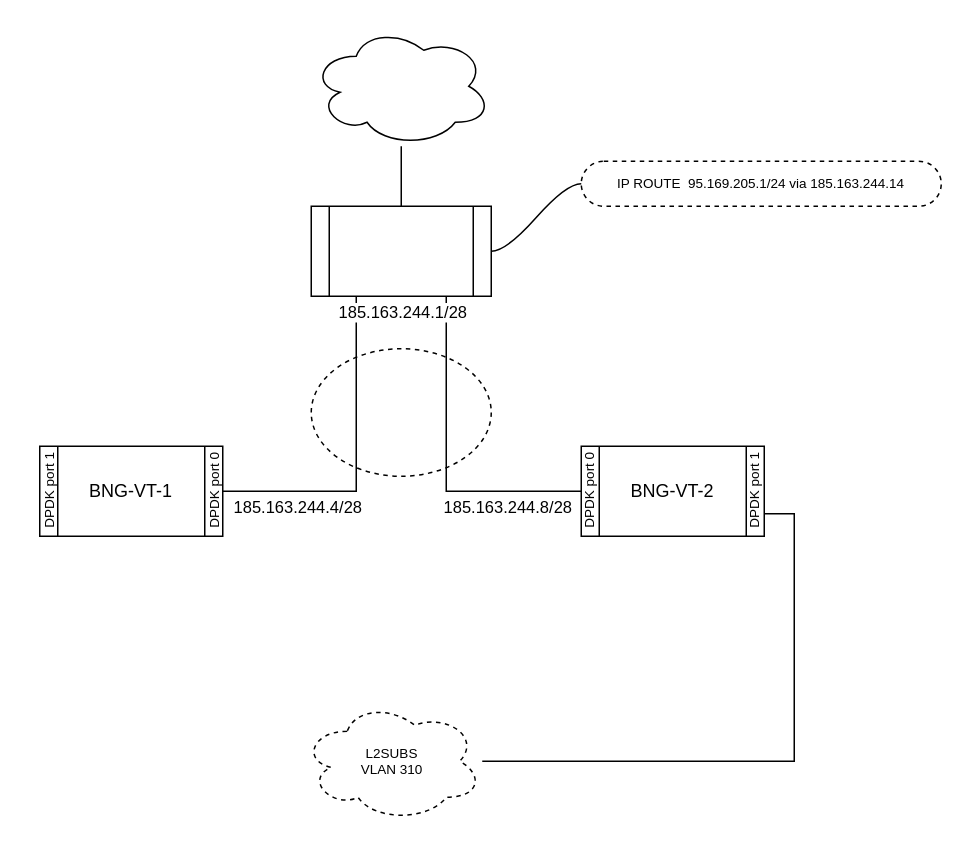
Image size: 968x848. Some labels were removed from this diagram. The centre of each missing label's shape, as x and y in pixels:
"CORE" goes at (400,250).
"VRRP GROUP 1 VIP 185.163.244.14/28" goes at (400,411).
